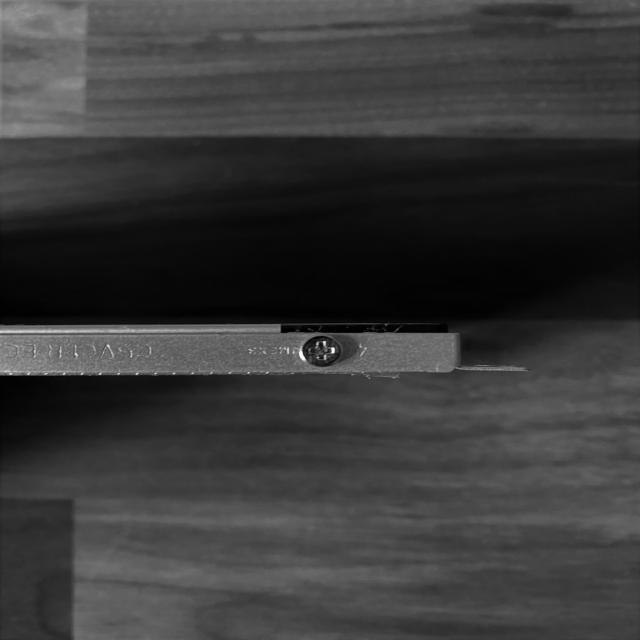PhillipsScrewHead: (298, 335, 344, 369)
